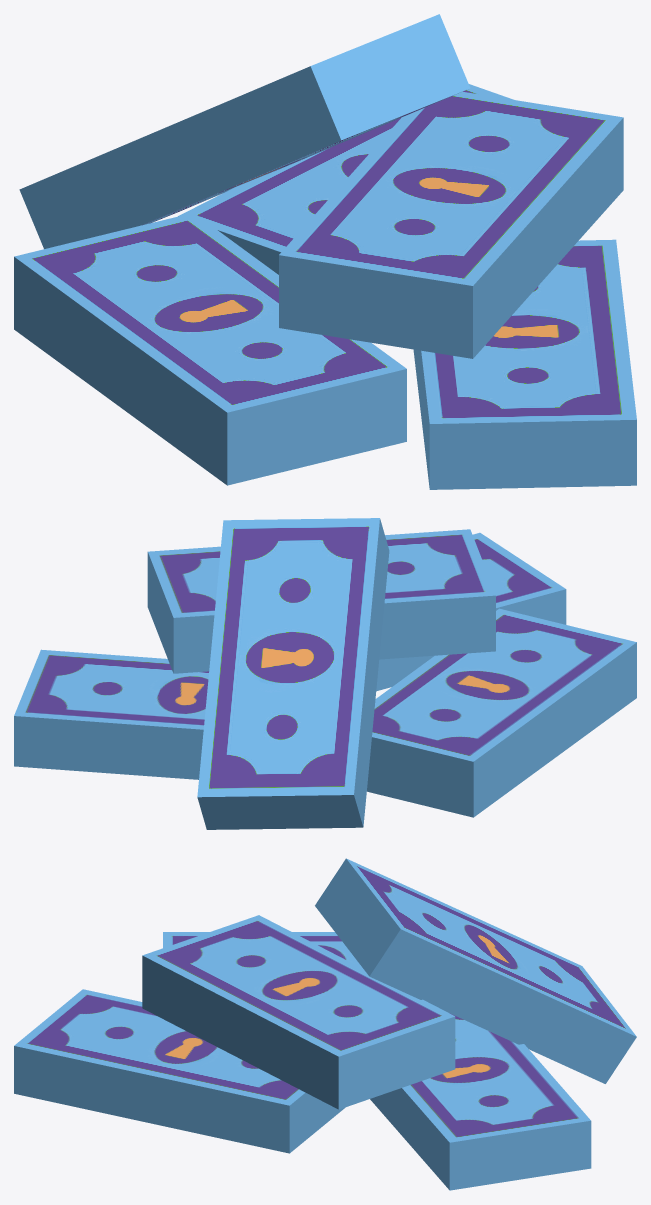
Rendered from cartoon_money.glb.
The picture shows the model from 3 angles, top to bottom: view 1: azimuth 30°, elevation 25°; view 2: azimuth 150°, elevation 25°; view 3: azimuth 270°, elevation 25°; orthographic projection. The views are drawn at different scales.
Visible parts, largest first — view 1: Cube.001; view 2: Cube.001; view 3: Cube.001.
Part boxes in pixels (x1=…): Cube.001: x1=14, y1=14, x2=636, y2=489; Cube.001: x1=14, y1=518, x2=636, y2=829; Cube.001: x1=14, y1=858, x2=636, y2=1190.
Size of the model in its own units: 0.2462 by 0.1167 by 0.3149.
Materials: 1 (1 with a texture image).
